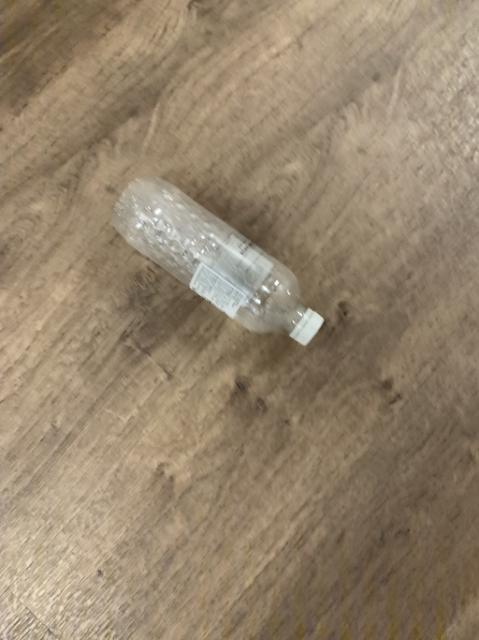plastic: (114, 178, 323, 345)
